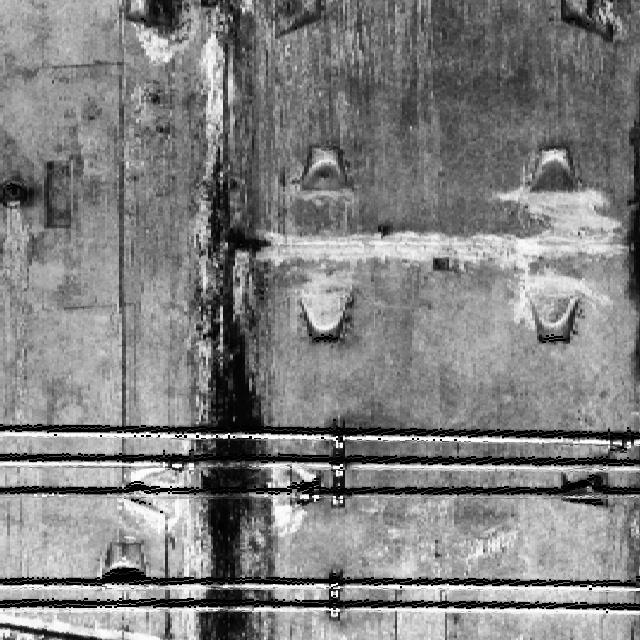leakage: (171, 27, 285, 639)
